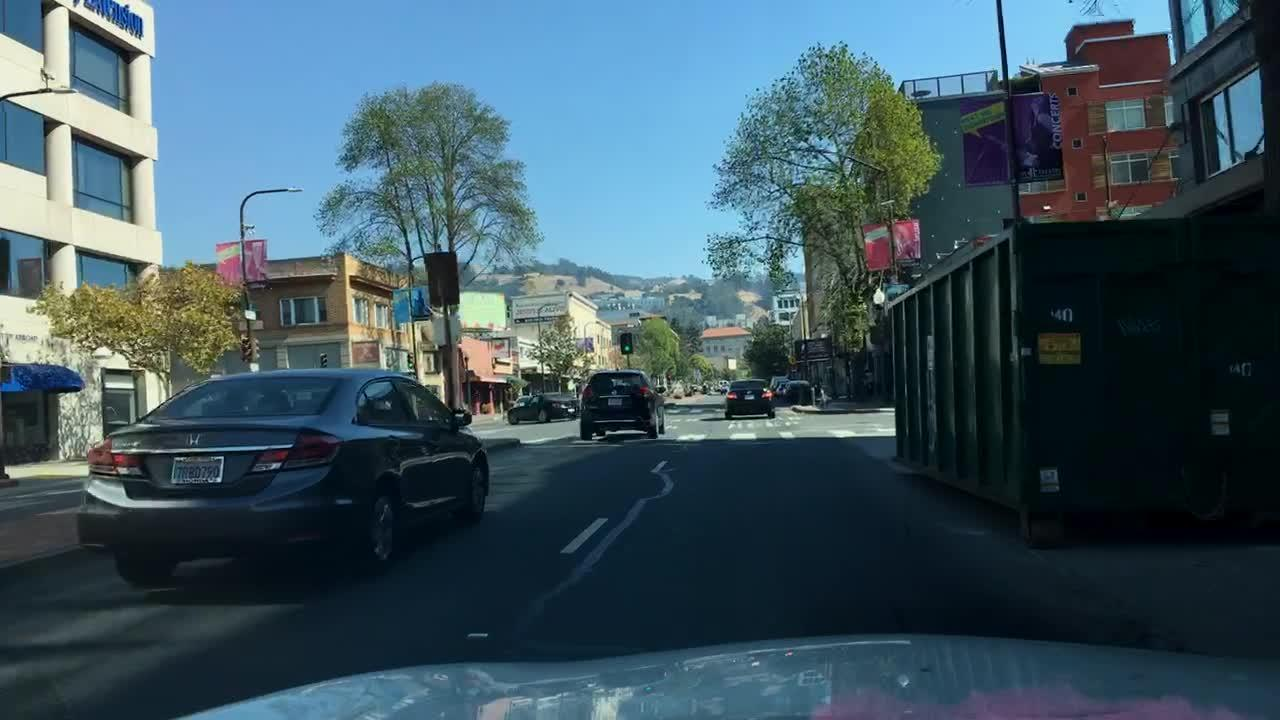Honda: (178, 429, 208, 452)
